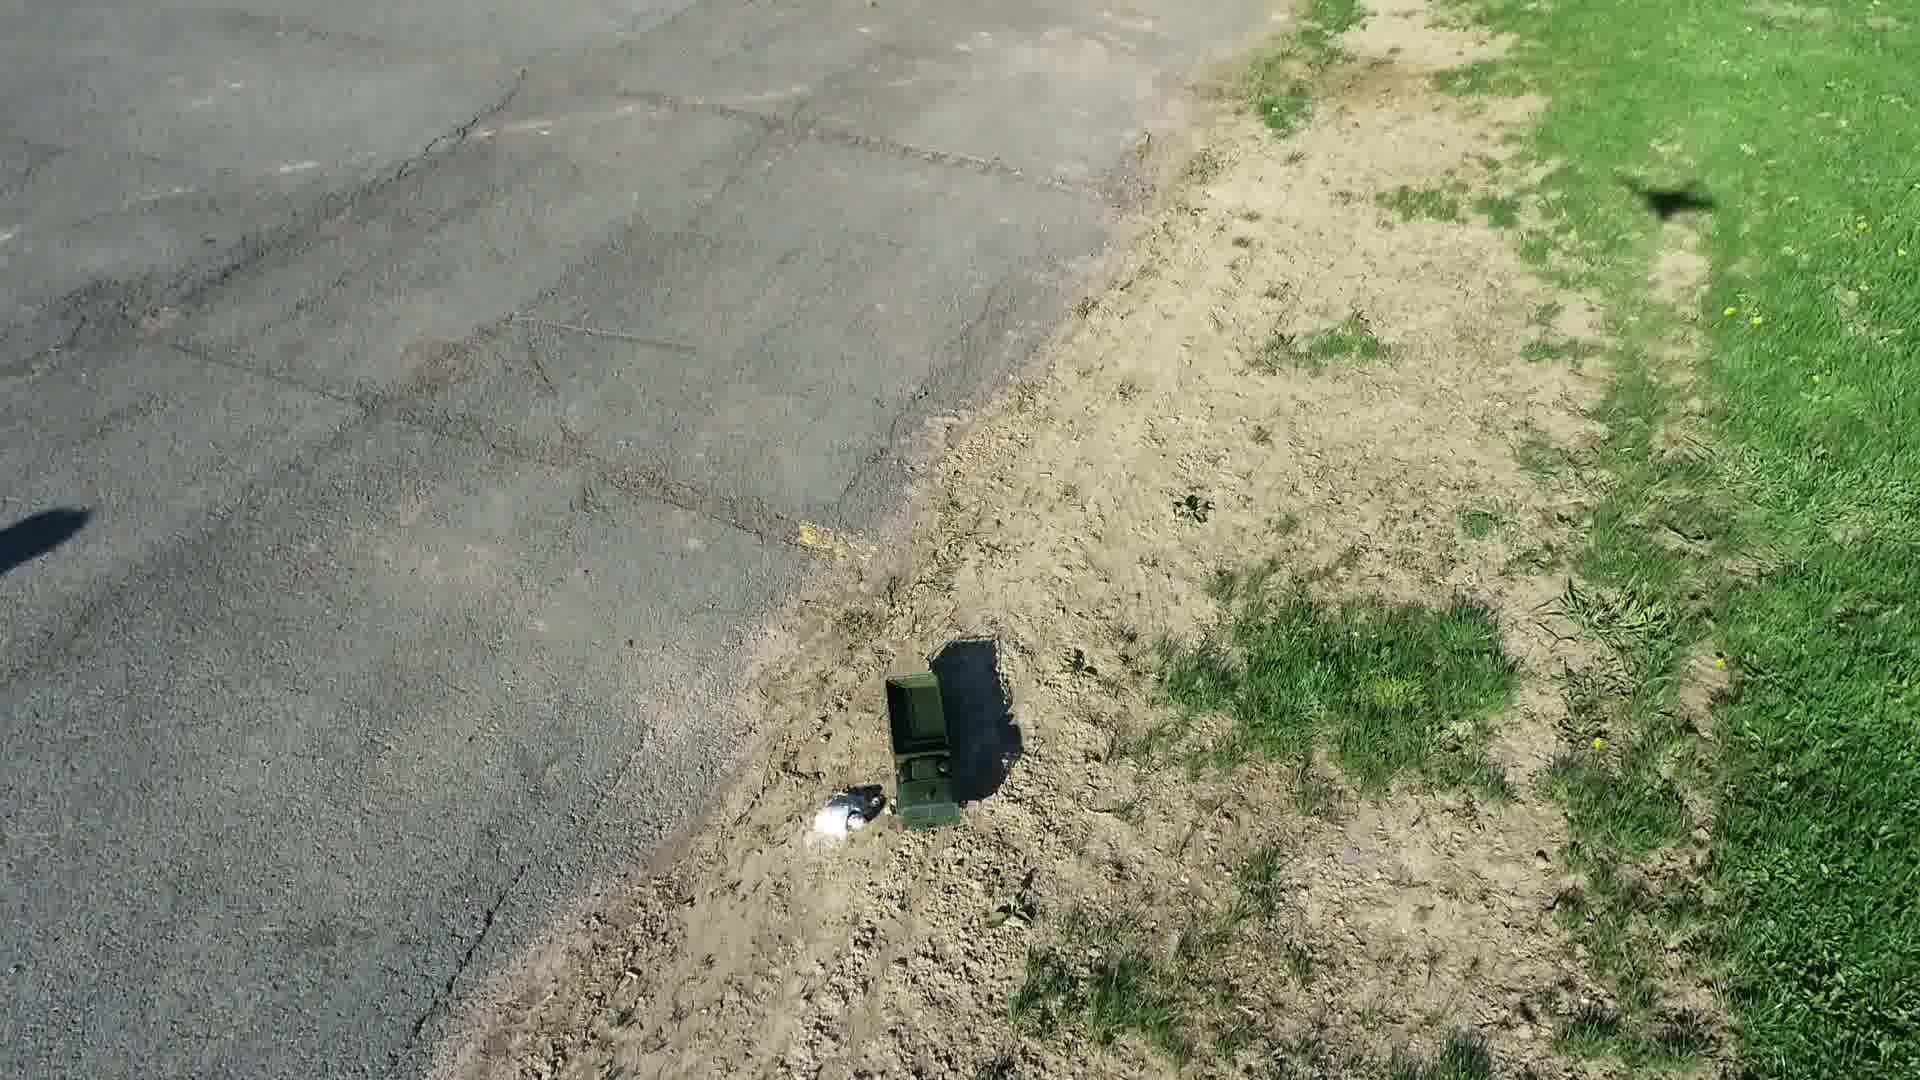transporter9: (874, 663, 971, 837)
